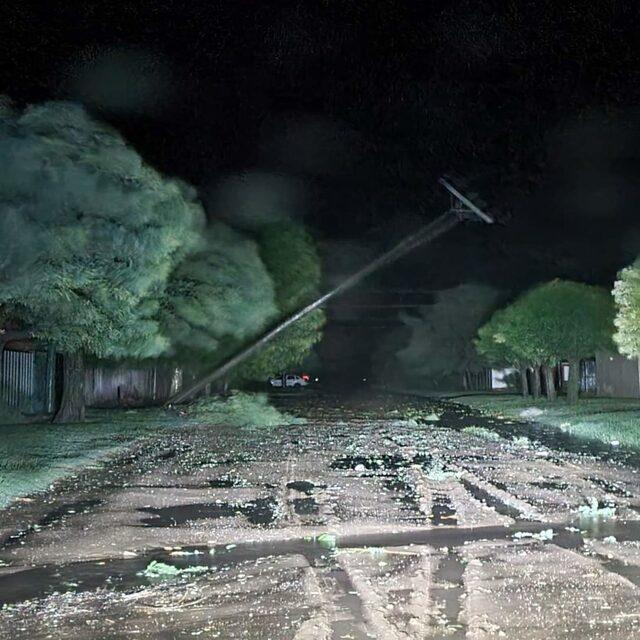Inclined Pole: (150, 164, 515, 409)
